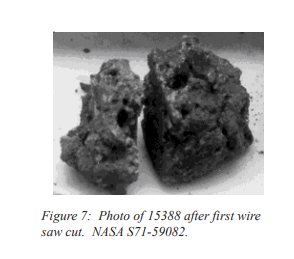Basalt: (155, 45, 252, 188), (79, 55, 141, 191)
